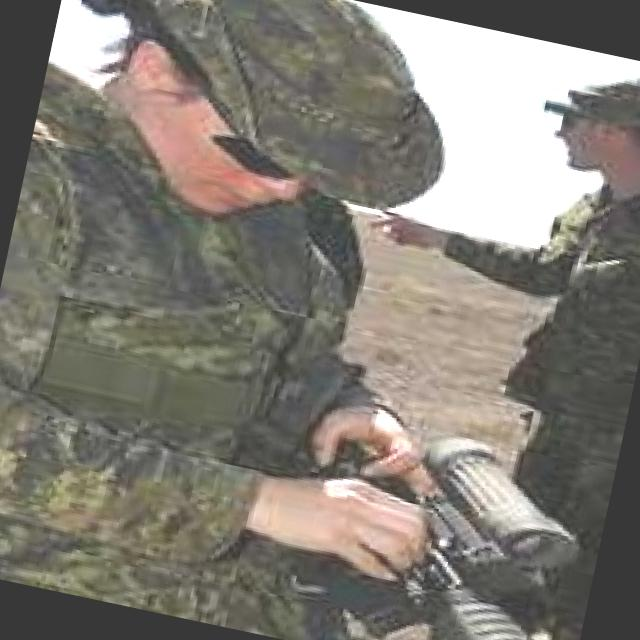long weapon: (207, 403, 611, 639)
